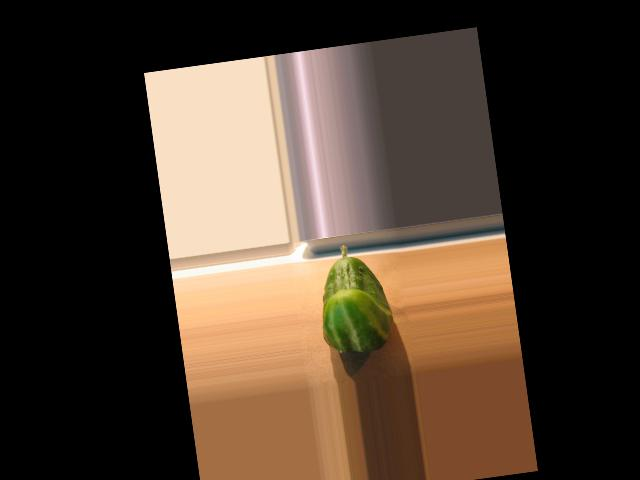cucumber: (310, 239, 396, 357)
